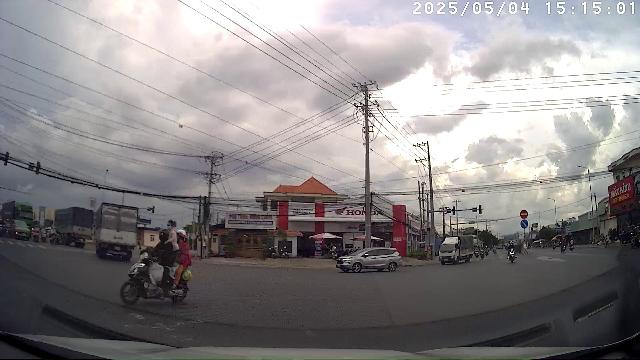102-cam-di-nguoc-chieu: (520, 209, 528, 219)
302a-huong-phai-di-vong-chuong-ngai-vat-1: (520, 219, 528, 228)
